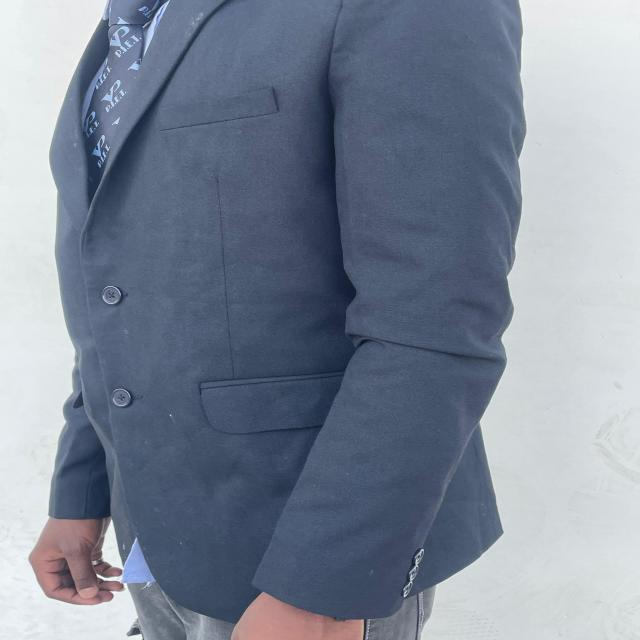Tie: (80, 0, 167, 205)
uniform: (45, 1, 526, 638)
